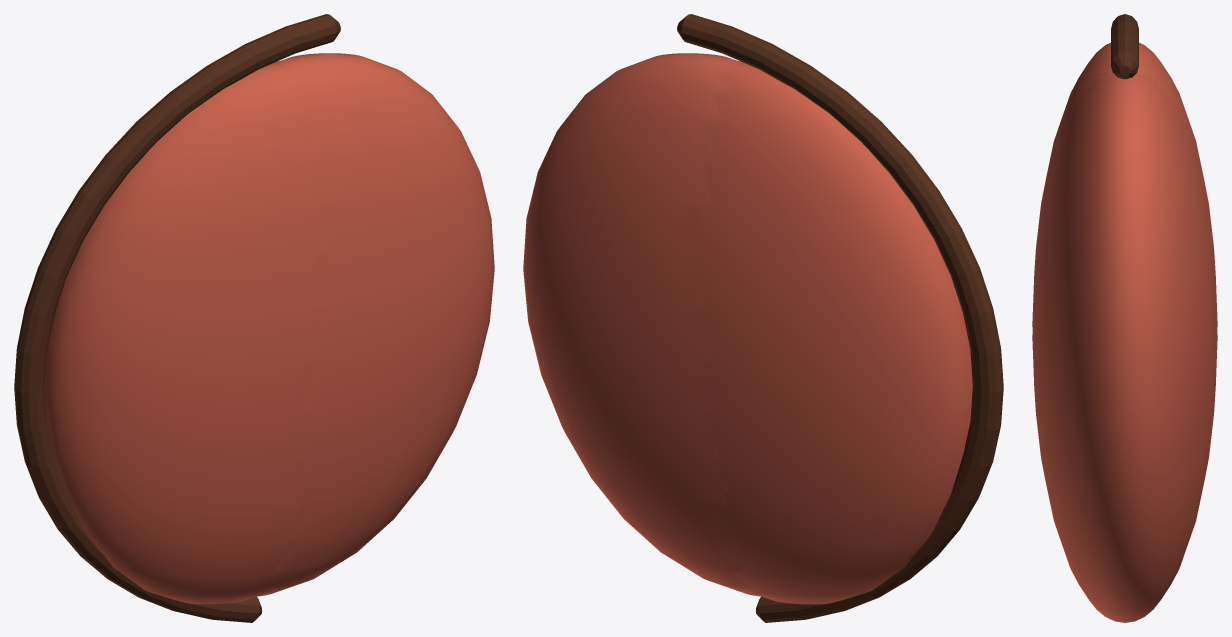
The model's file is hoho.fbx.
3 renders of one model, left to right at view 1: azimuth 30°, elevation 25°; view 2: azimuth 150°, elevation 25°; view 3: azimuth 270°, elevation 25°, orthographic. The views are drawn at different scales.
Parts seen in each view (by area): view 1: Sphere, Sphere.001, Torus.003; view 2: Sphere, Sphere.001, Torus.003; view 3: Sphere, Torus.003, Sphere.001.
Boxes of the visible parts, x1,y1,x2,y2 form: Sphere: [45, 53, 494, 604]; Sphere.001: [54, 61, 318, 604]; Torus.003: [14, 14, 340, 622]; Sphere: [523, 53, 972, 603]; Sphere.001: [698, 63, 971, 604]; Torus.003: [677, 14, 1003, 622]; Sphere: [1032, 42, 1217, 622]; Torus.003: [1111, 14, 1138, 79]; Sphere.001: [1035, 52, 1217, 326].
Bounding box in the file's own units: 283 × 335 × 92.14.
